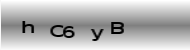6: (62, 25, 75, 38)
B: (109, 20, 125, 35)
C: (48, 24, 64, 37)
h: (21, 21, 35, 33)
y: (90, 28, 104, 42)
